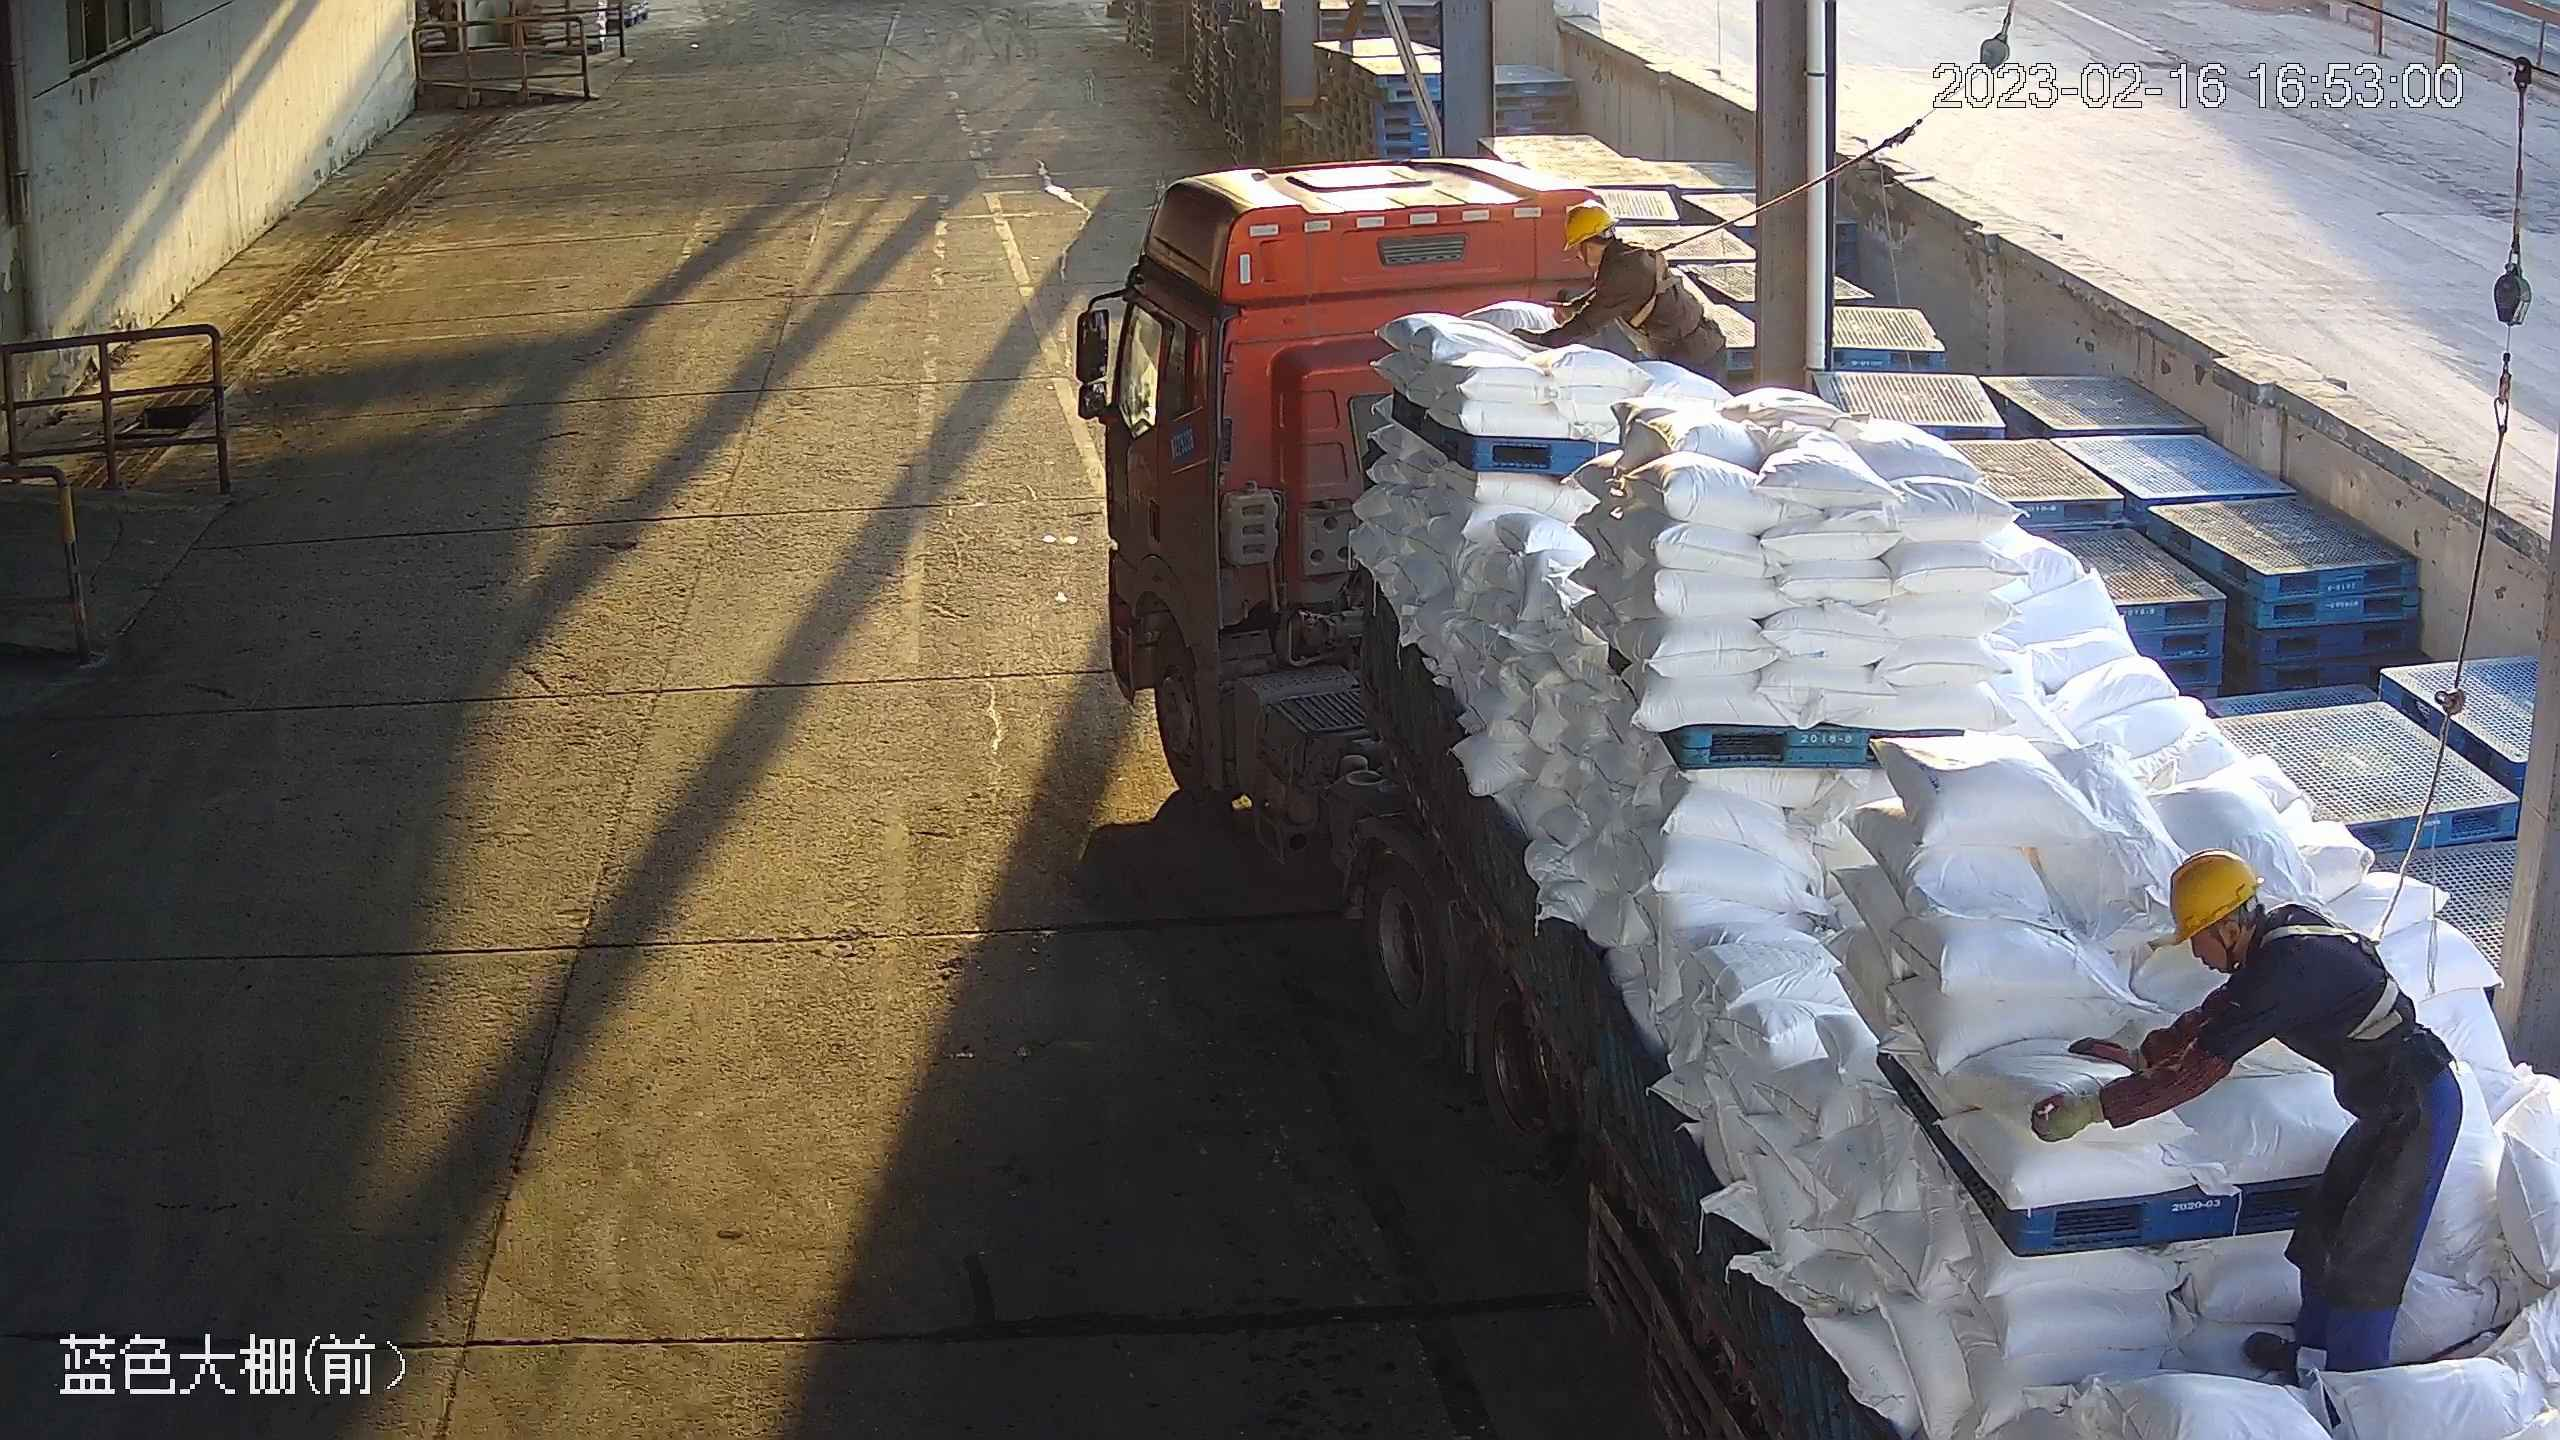belt: (2259, 895, 2396, 1036), (1600, 239, 1685, 313)
head: (2162, 851, 2368, 1001), (1563, 194, 1646, 297)
helmet: (2148, 844, 2261, 940), (1551, 192, 1611, 258)
people: (2036, 843, 2464, 1364)
truck: (1077, 130, 2560, 1436)
